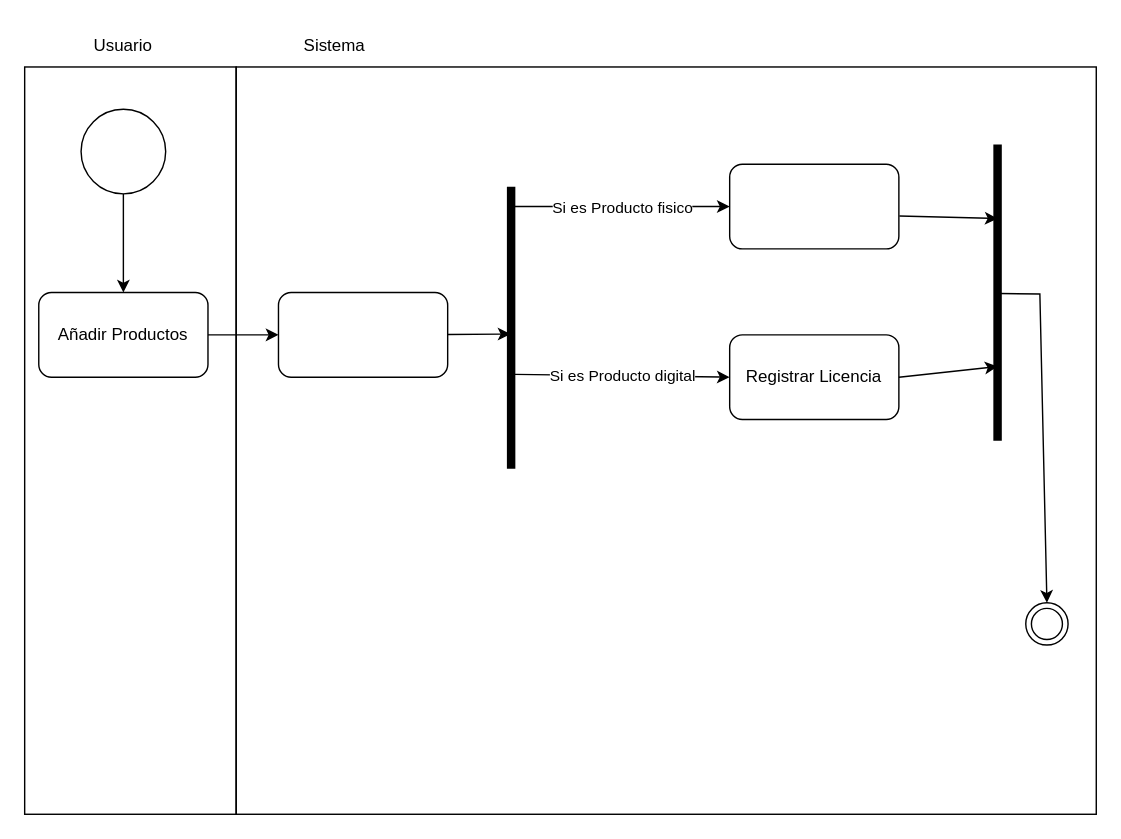
Image size: 1121x839. Some labels were removed from this diagram. The centre of each missing label's shape, as x and y in pixels:
"Enviar Pedido" goes at point 813,206.
"Realizar Pedido" goes at point 362,334.
